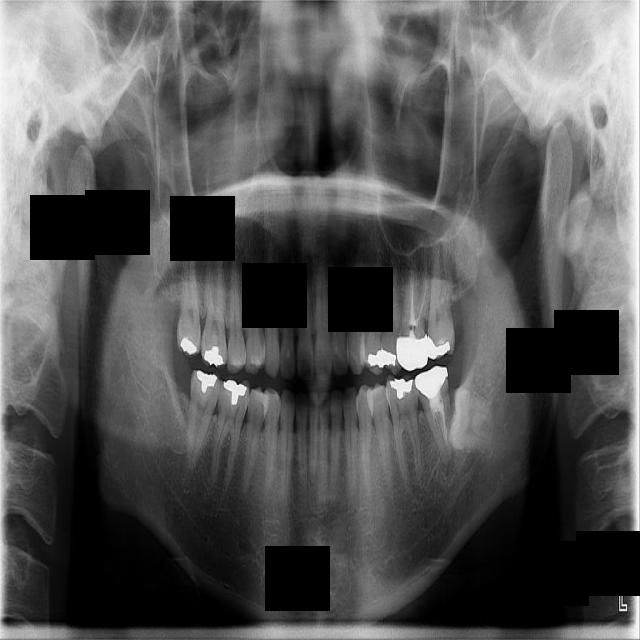52: (408, 362, 458, 410), (186, 367, 225, 412), (394, 325, 430, 373), (217, 375, 251, 424), (385, 374, 420, 418), (198, 323, 229, 369), (174, 314, 203, 360), (242, 328, 268, 378), (425, 319, 456, 360), (379, 326, 403, 377), (360, 327, 383, 377), (245, 385, 270, 429), (278, 336, 297, 379), (330, 331, 349, 374)
73: (397, 230, 444, 339), (421, 391, 454, 470), (595, 573, 604, 589)
BioHorizons Implant: (425, 200, 463, 360)
Biomet 3i Implant: (447, 386, 500, 453)
Blue Sky Bio Implant: (413, 363, 458, 471)
Caries: (174, 228, 201, 359)
Implant: (187, 368, 222, 473)
